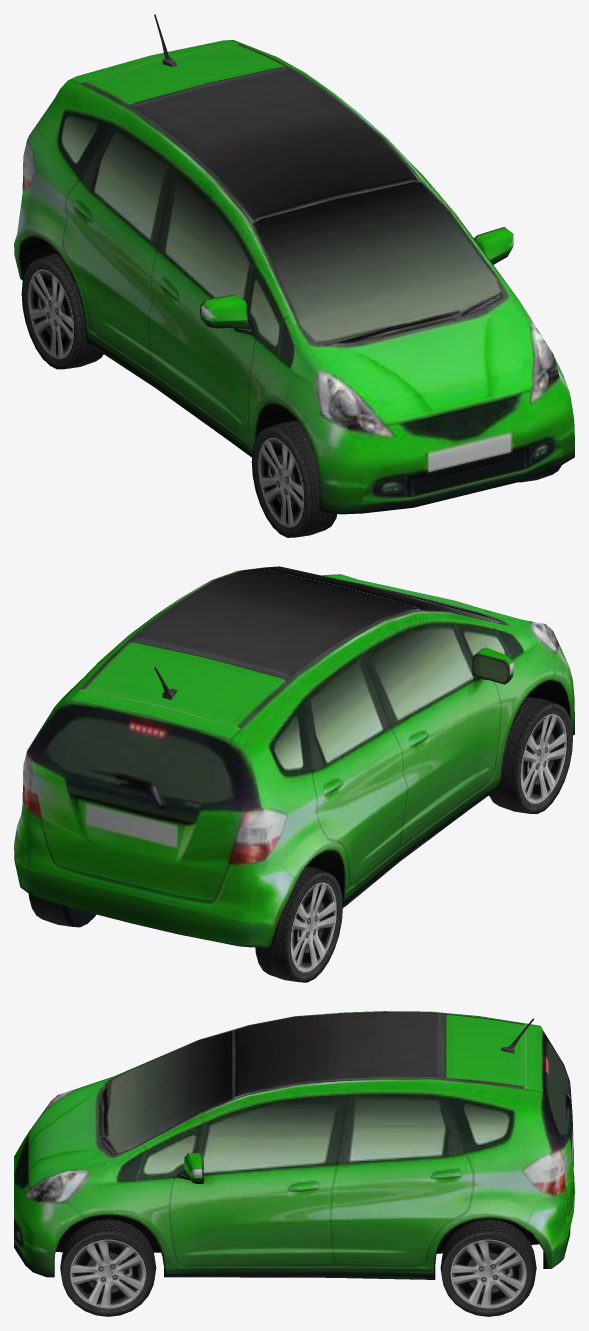
The model's file is hatch_green.glb.
3 renders of one model, top to bottom at view 1: azimuth 30°, elevation 25°; view 2: azimuth 150°, elevation 25°; view 3: azimuth 270°, elevation 25°, orthographic. The views are drawn at different scales.
Visible parts, largest first — view 1: Body; view 2: Body; view 3: Body.
Part boxes in pixels (left/top/right/bottom): Body: left=14, top=14, right=574, bottom=537; Body: left=14, top=566, right=574, bottom=982; Body: left=14, top=1011, right=574, bottom=1316.
Bounding box in the file's own units: 2.21 × 2.06 × 4.2.
Materials: 1 (1 with a texture image).
